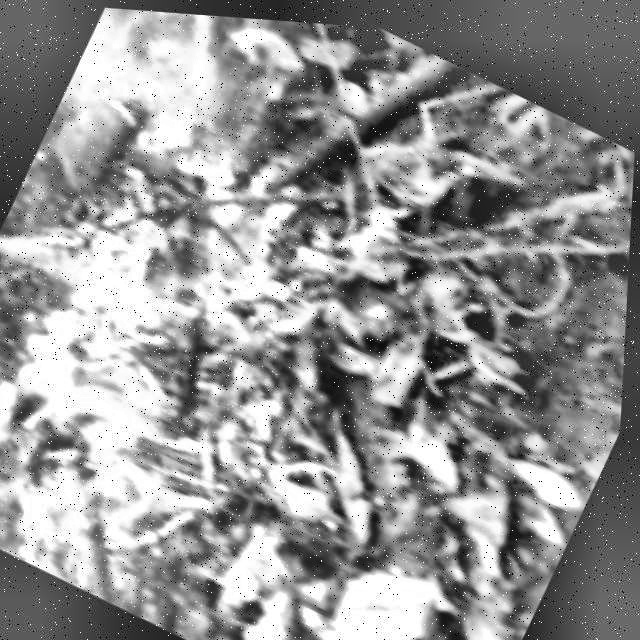Fire: (0, 99, 316, 580)
